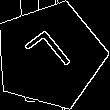L_SE: (21, 26, 79, 85)
